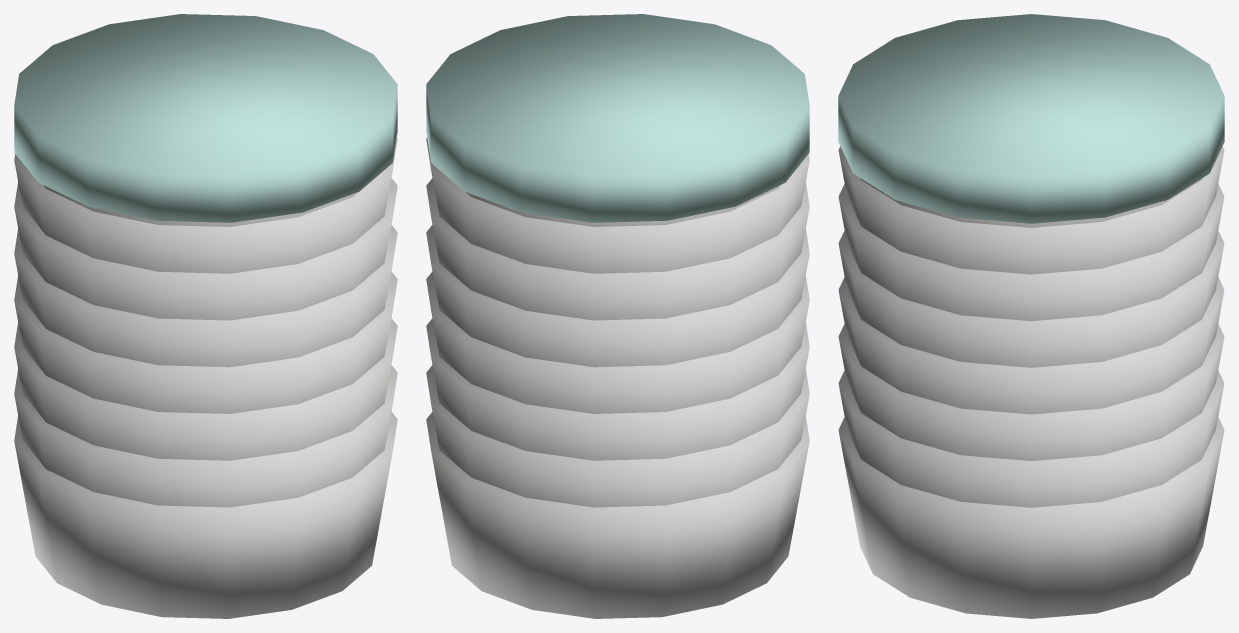
The model's file is SM_CupStack.fbx.
The picture shows the model from 3 angles, left to right: view 1: azimuth 30°, elevation 25°; view 2: azimuth 150°, elevation 25°; view 3: azimuth 270°, elevation 25°; orthographic projection.
Parts seen in each view (by area): view 1: SM_CupStack; view 2: SM_CupStack; view 3: SM_CupStack.
Boxes of the visible parts, x1=… form: SM_CupStack: x1=14, y1=14, x2=397, y2=618; SM_CupStack: x1=426, y1=14, x2=809, y2=618; SM_CupStack: x1=838, y1=14, x2=1224, y2=618.
Bounding box in the file's own units: 0.09 × 0.116 × 0.09.
